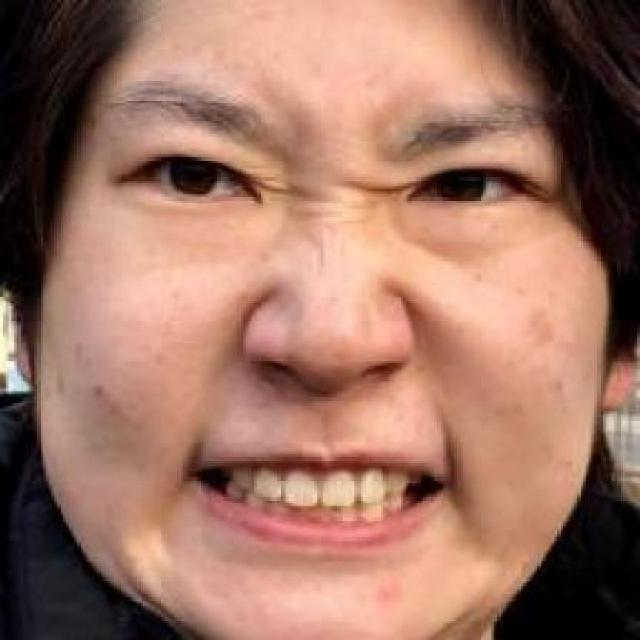angry: (77, 68, 566, 594)
